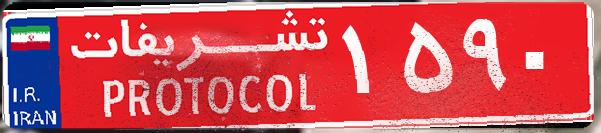0: (520, 20, 580, 115)
1: (340, 20, 400, 115)
5: (400, 20, 460, 115)
9: (460, 20, 520, 115)
تشریفات: (60, 8, 340, 125)
